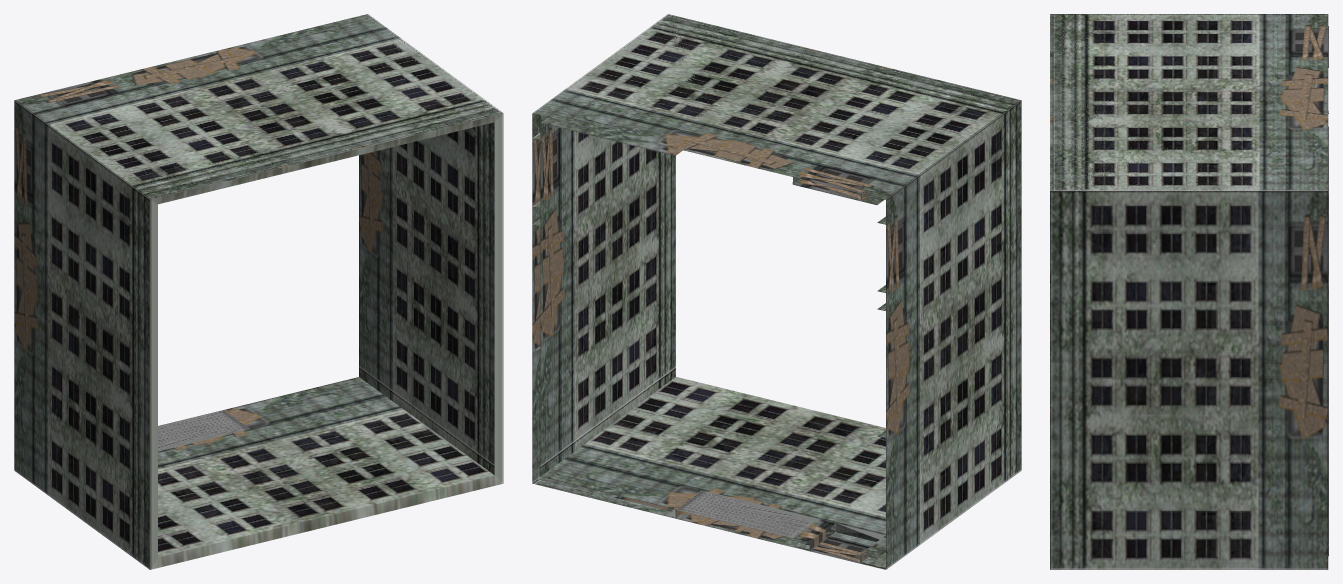
File: building12x8x12a_wtf.obj
3 views of the same model, side by side, from view 1: azimuth 30°, elevation 25°; view 2: azimuth 150°, elevation 25°; view 3: azimuth 270°, elevation 25° (orthographic). The views are drawn at different scales.
Visible parts, largest first — view 1: group5, group8, group9, group4, group6; view 2: group5, group8, group4, group9, group6, group7; view 3: group5, group9, group4, group8.
Part boxes in pixels (bbox=[...]): group5: bbox=[14, 14, 503, 569]; group8: bbox=[359, 122, 494, 474]; group9: bbox=[14, 14, 502, 467]; group4: bbox=[14, 49, 249, 451]; group6: bbox=[158, 410, 249, 448]; group5: bbox=[532, 14, 1021, 569]; group8: bbox=[540, 123, 675, 476]; group4: bbox=[532, 129, 905, 563]; group9: bbox=[532, 15, 1020, 569]; group6: bbox=[675, 490, 818, 538]; group7: bbox=[532, 477, 885, 569]; group5: bbox=[1050, 14, 1328, 569]; group9: bbox=[1050, 14, 1328, 569]; group4: bbox=[1275, 27, 1328, 435]; group8: bbox=[1328, 194, 1328, 556].
Bounding box in the file's own units: 660 × 660 × 440.
